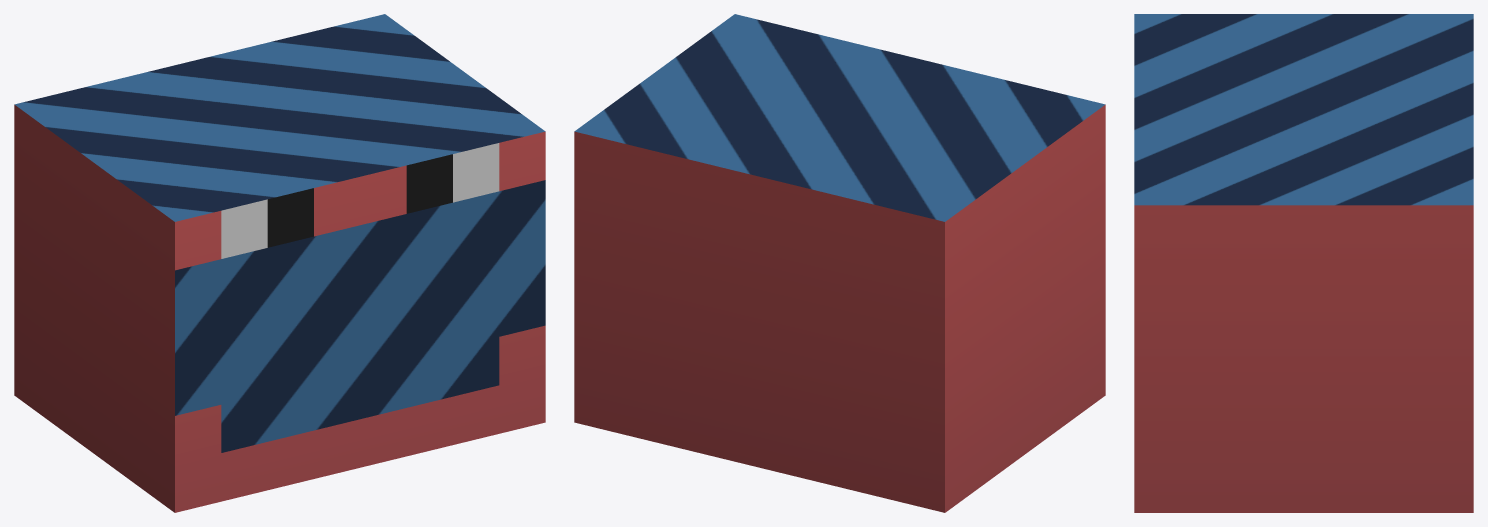
The model's file is PartG.fbx.
3 views of the same model, side by side, from view 1: azimuth 30°, elevation 25°; view 2: azimuth 150°, elevation 25°; view 3: azimuth 270°, elevation 25° (orthographic). The views are drawn at different scales.
Visible parts, largest first — view 1: PartG; view 2: PartG; view 3: PartG.
Boxes of the visible parts, left/top/right/bottom form: PartG: left=14, top=14, right=545, bottom=512; PartG: left=574, top=14, right=1105, bottom=512; PartG: left=1134, top=14, right=1473, bottom=512.
Size of the model in its own units: 80 by 60 by 60.
